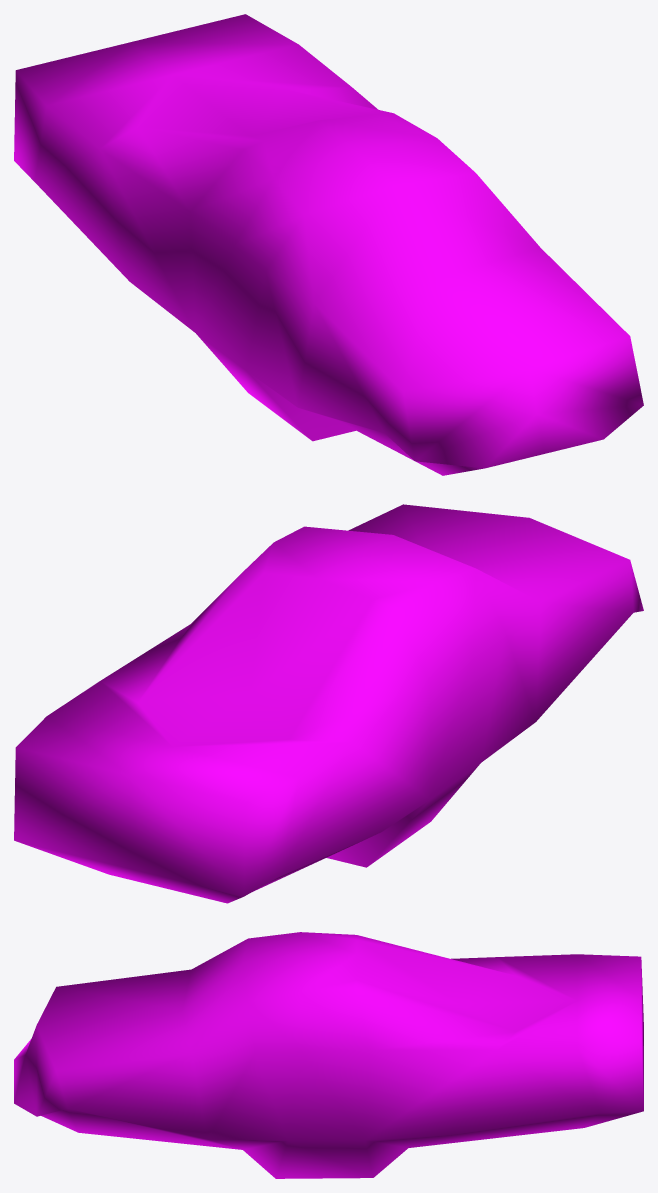
The model's file is the_bison_collider.FBX.
The picture shows the model from 3 angles, top to bottom: view 1: azimuth 30°, elevation 25°; view 2: azimuth 150°, elevation 25°; view 3: azimuth 270°, elevation 25°; orthographic projection. The views are drawn at different scales.
Visible parts, largest first — view 1: collider; view 2: collider; view 3: collider.
Boxes of the visible parts, x1=… form: collider: x1=14, y1=14, x2=643, y2=475; collider: x1=14, y1=504, x2=643, y2=903; collider: x1=14, y1=932, x2=643, y2=1178.
Size of the model in its own units: 1.75 by 1.77 by 4.99.
